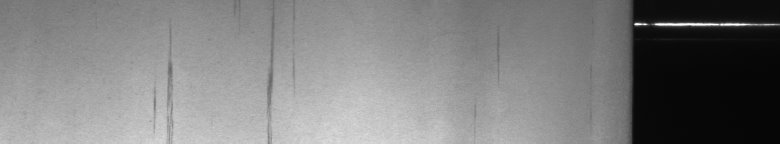hd: (264, 15, 295, 136)
